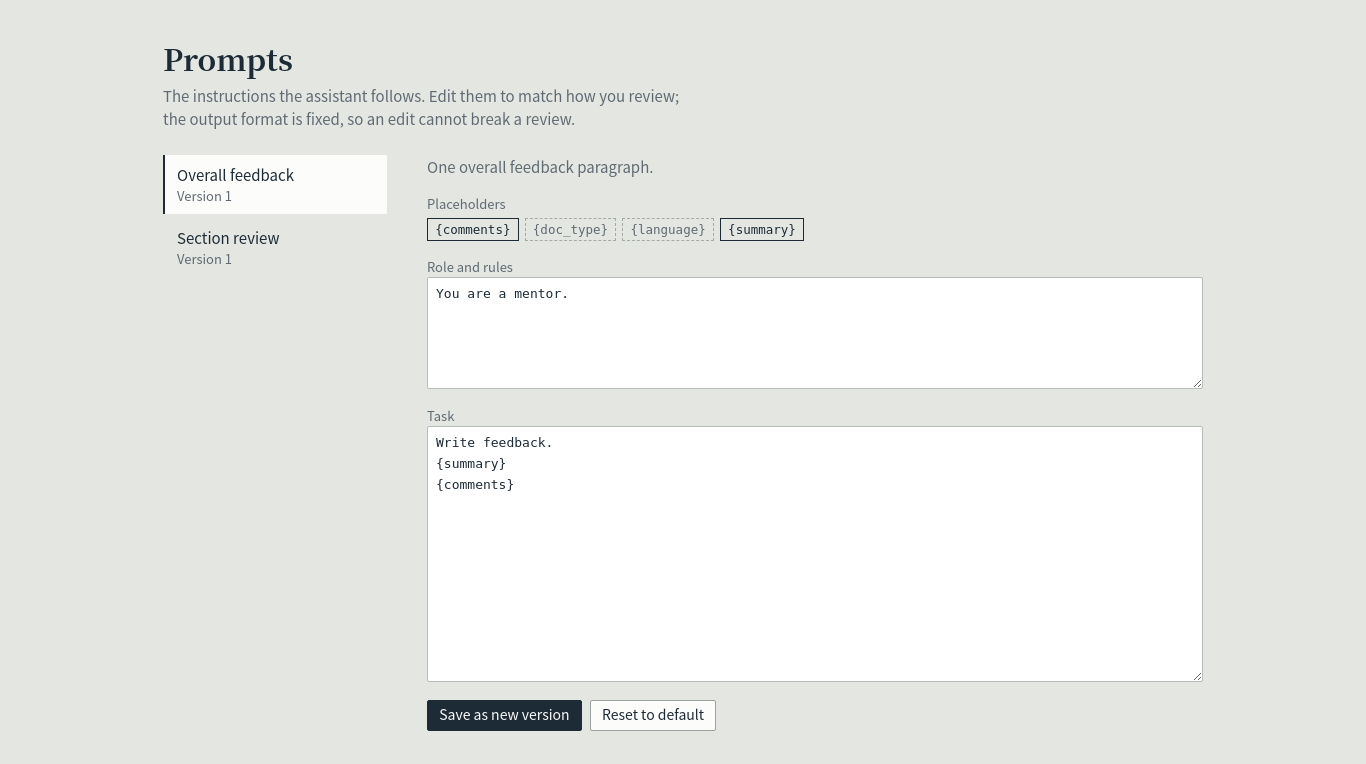
save shows the new version
Expected: the list item "{comments}" is shown, [427,218,519,241]
Type " Be kind." into the text box labelled "Role and rules" at (815, 333), box [427,277,1203,389]
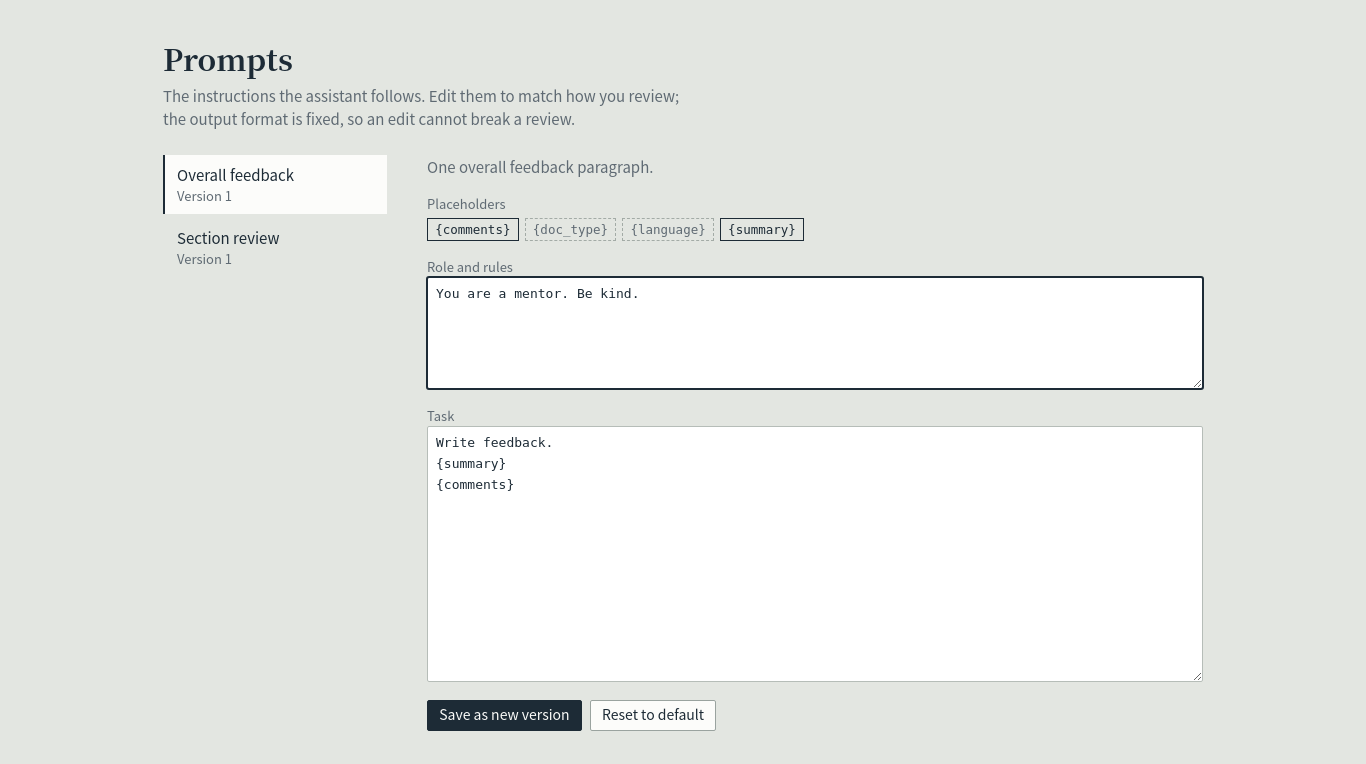
Click the button "Save as new version" at (504, 715), box [427,700,582,731]
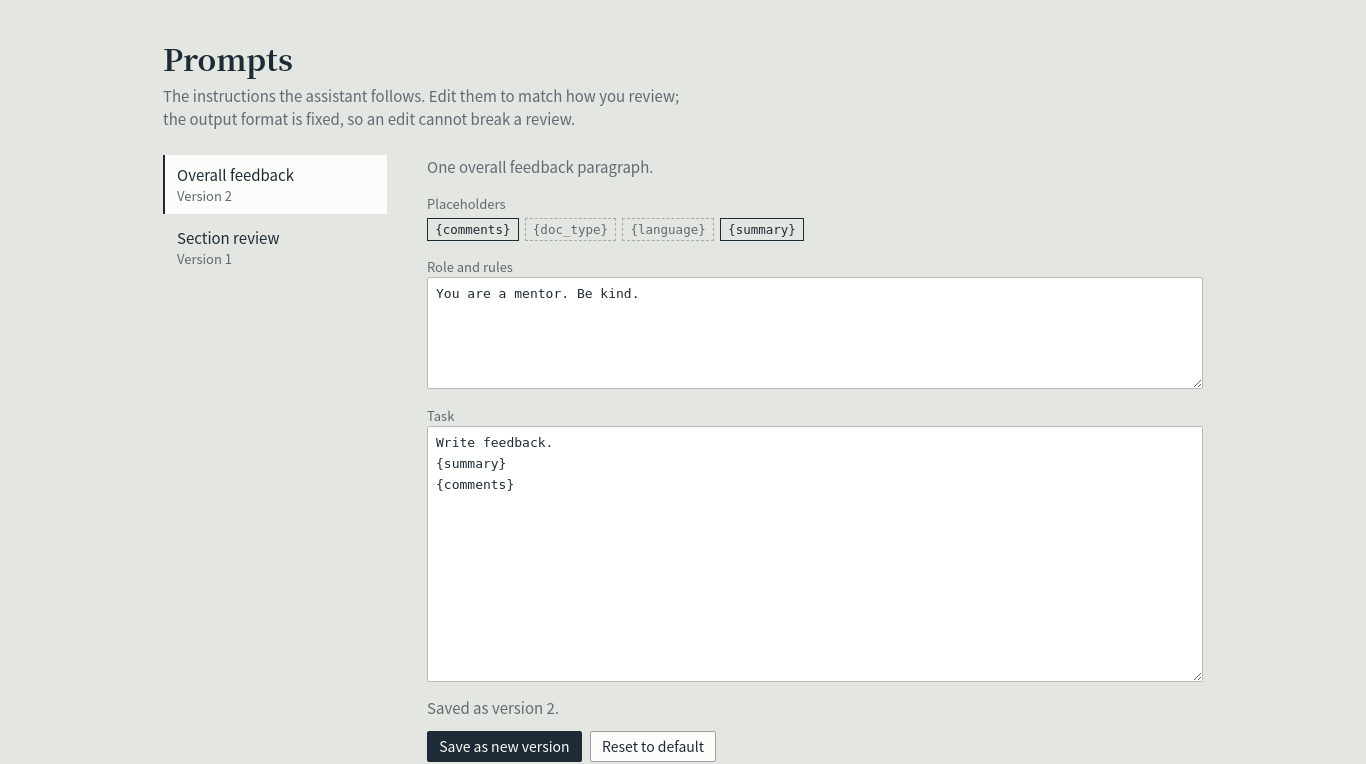
Result: the text "Saved as version 2." is shown at [427,697,559,718]
